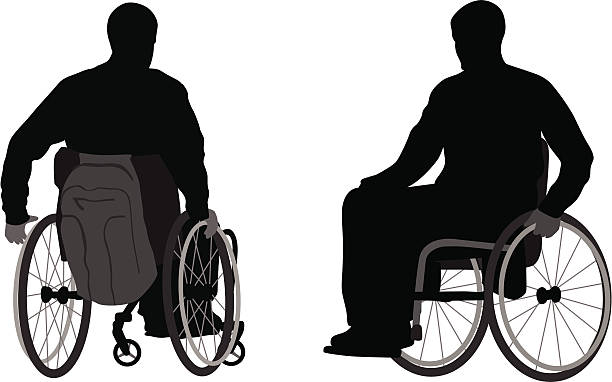wheel_chair: (343, 131, 612, 382), (6, 141, 253, 382)
